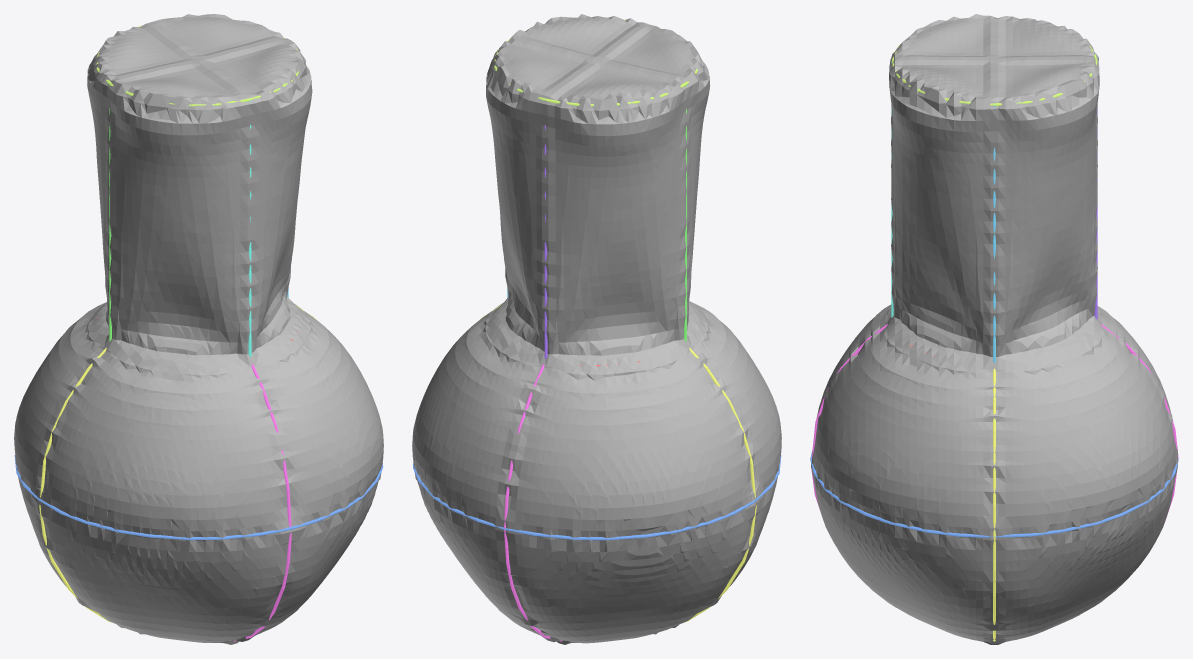
File: flowrep_spherecylinder.gltf
3 views of the same model, side by side, from view 1: azimuth 30°, elevation 25°; view 2: azimuth 150°, elevation 25°; view 3: azimuth 270°, elevation 25° (orthographic).
Size of the model in its own units: 0.4561 by 0.7848 by 0.4564.
